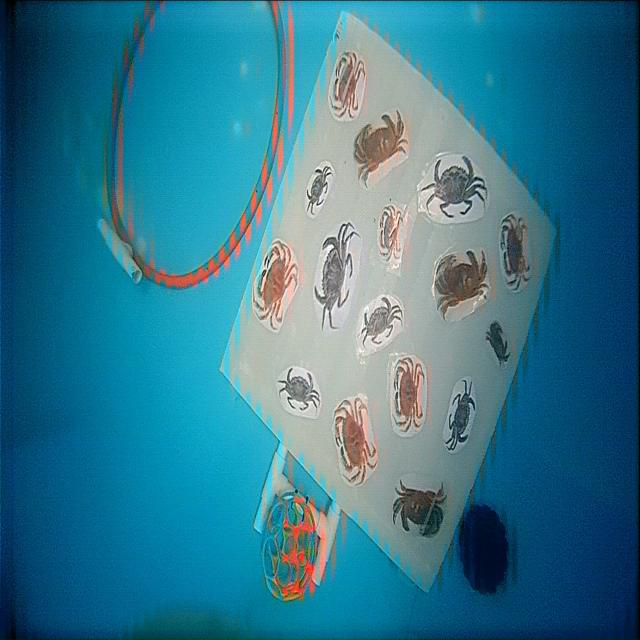GreenCrab: (314, 221, 360, 329), (421, 156, 486, 218), (445, 379, 475, 450), (360, 296, 401, 346), (277, 367, 320, 409), (307, 166, 331, 215)
